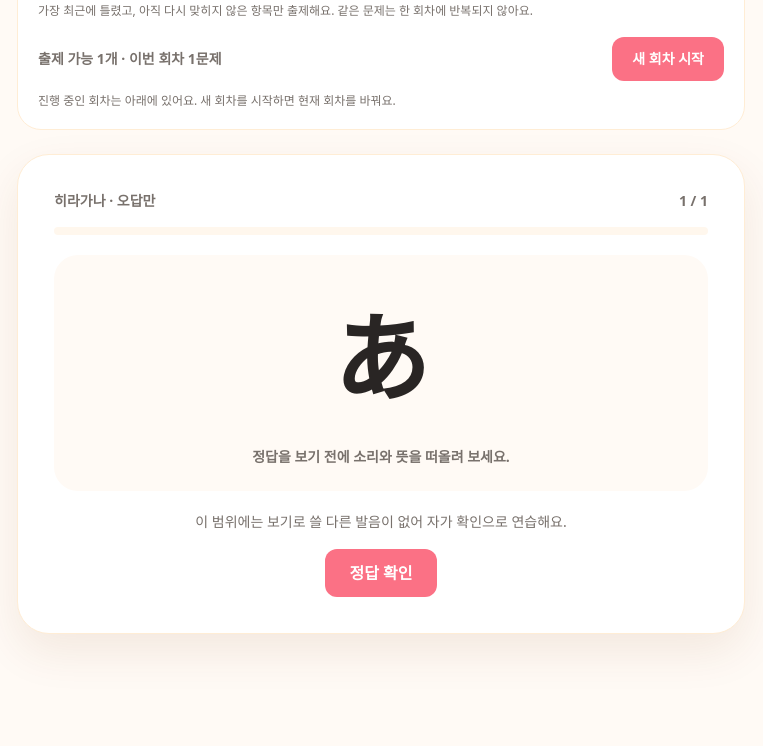
Test: 퀴즈·복습 화면 › 오답 하나도 자가 확인으로 연습하고 유한 결과 화면까지 마친다
(page scrolled)
Click the button "정답 확인".
click(381, 573)  # box x1=326 y1=549 x2=436 y2=597
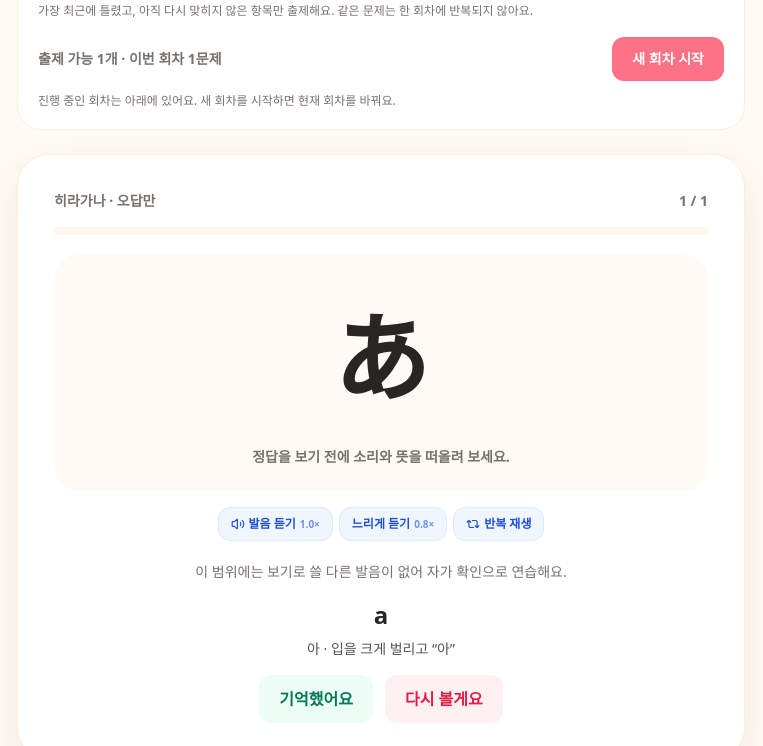
Click the button "기억했어요".
click(316, 699)  # box x1=259 y1=675 x2=373 y2=723
(page scrolled)
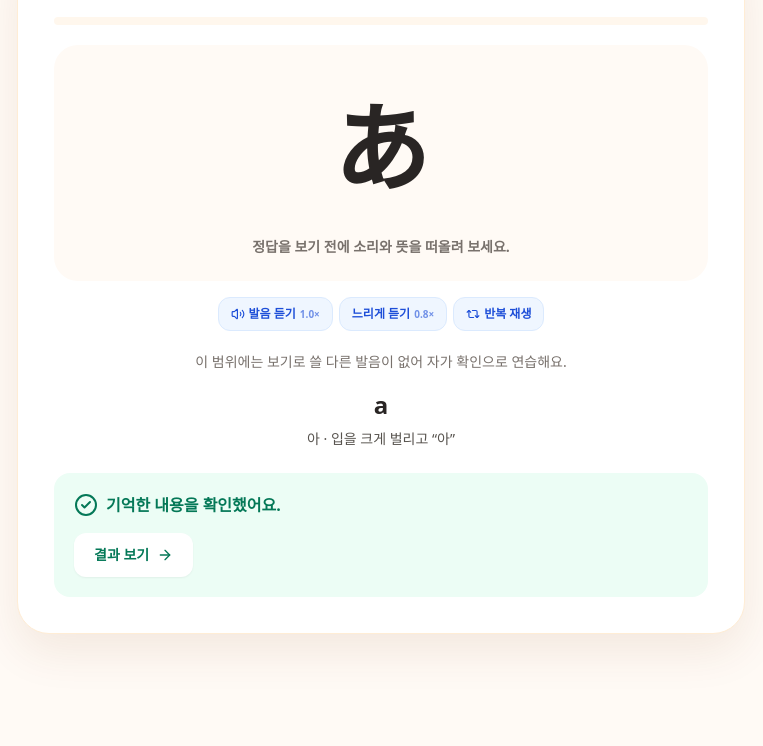
Click the button "결과 보기".
click(134, 555)  # box x1=74 y1=533 x2=193 y2=577
(page scrolled)
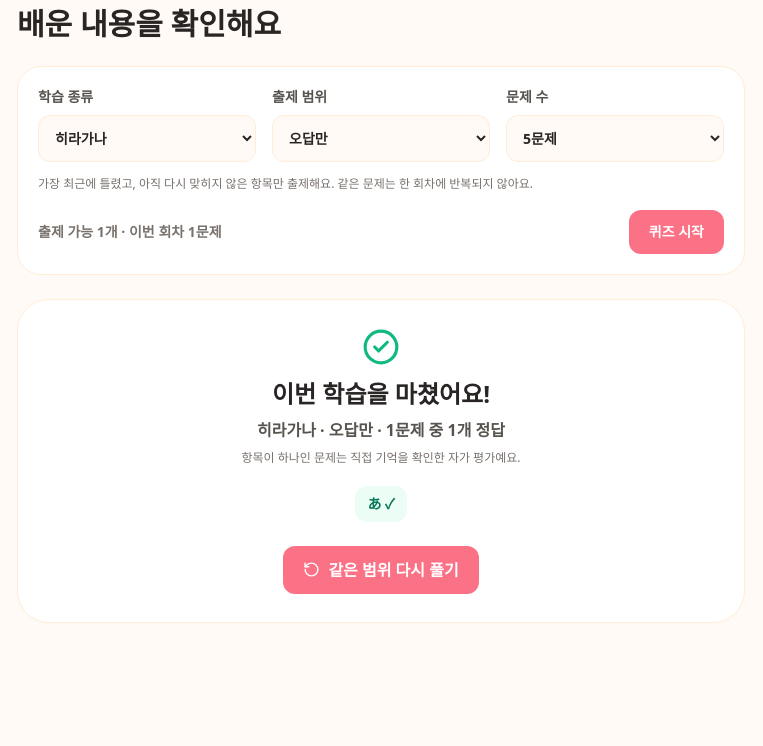
Now the element named "퀴즈 결과" is shown, box x1=17 y1=298 x2=745 y2=622
Now the text "히라가나 · 오답만 · 1문제 중 1개 정답" is shown, box x1=257 y1=418 x2=505 y2=440
